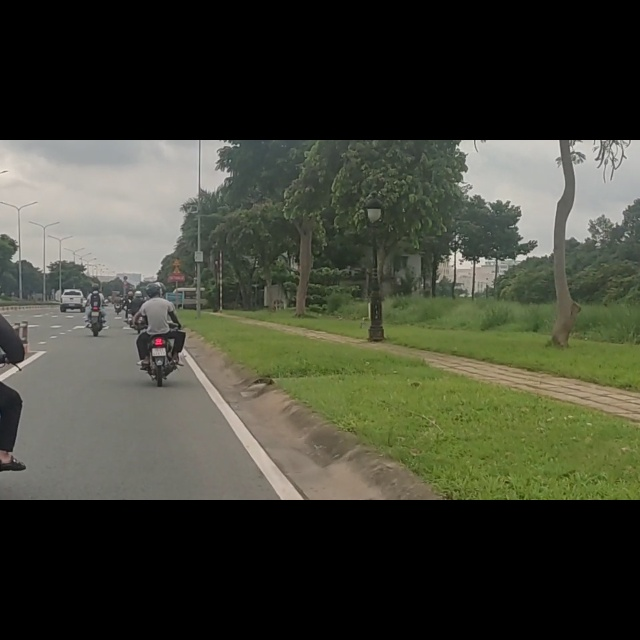bien_nguy_hiem: (172, 209, 181, 224), (173, 224, 181, 238), (123, 241, 128, 249)
